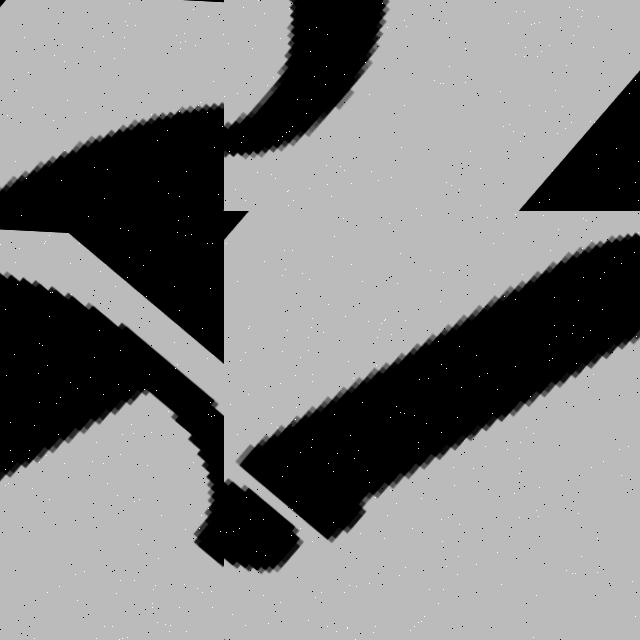3: (0, 211, 224, 640)
J: (224, 211, 640, 640)
S: (224, 0, 640, 211)
